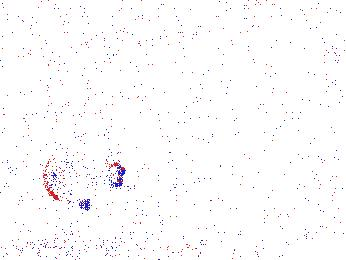flame jellyfish: (42, 150, 127, 203), (9, 163, 65, 215)
